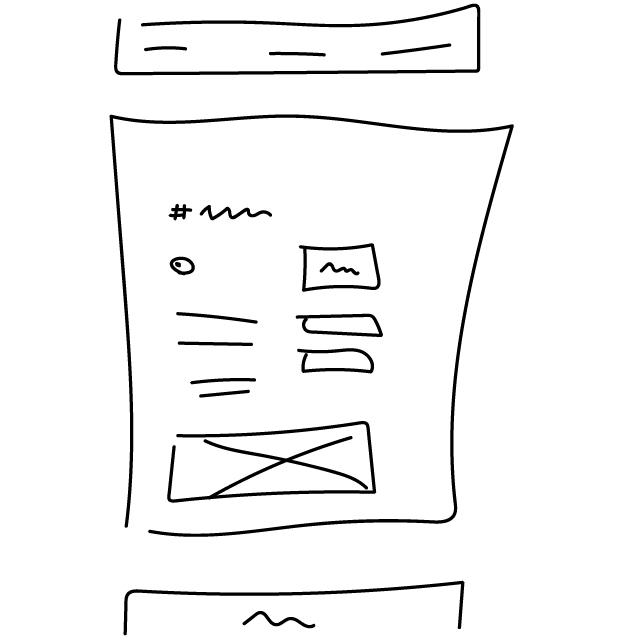button: (297, 239, 387, 298)
checkbox: (168, 255, 201, 279)
container: (92, 105, 521, 559)
footer: (107, 576, 472, 640)
frame: (161, 417, 385, 510)
heading: (159, 198, 280, 234)
input: (298, 312, 386, 343), (297, 346, 379, 379)
nav: (109, 1, 491, 79)
text: (169, 304, 272, 408)
